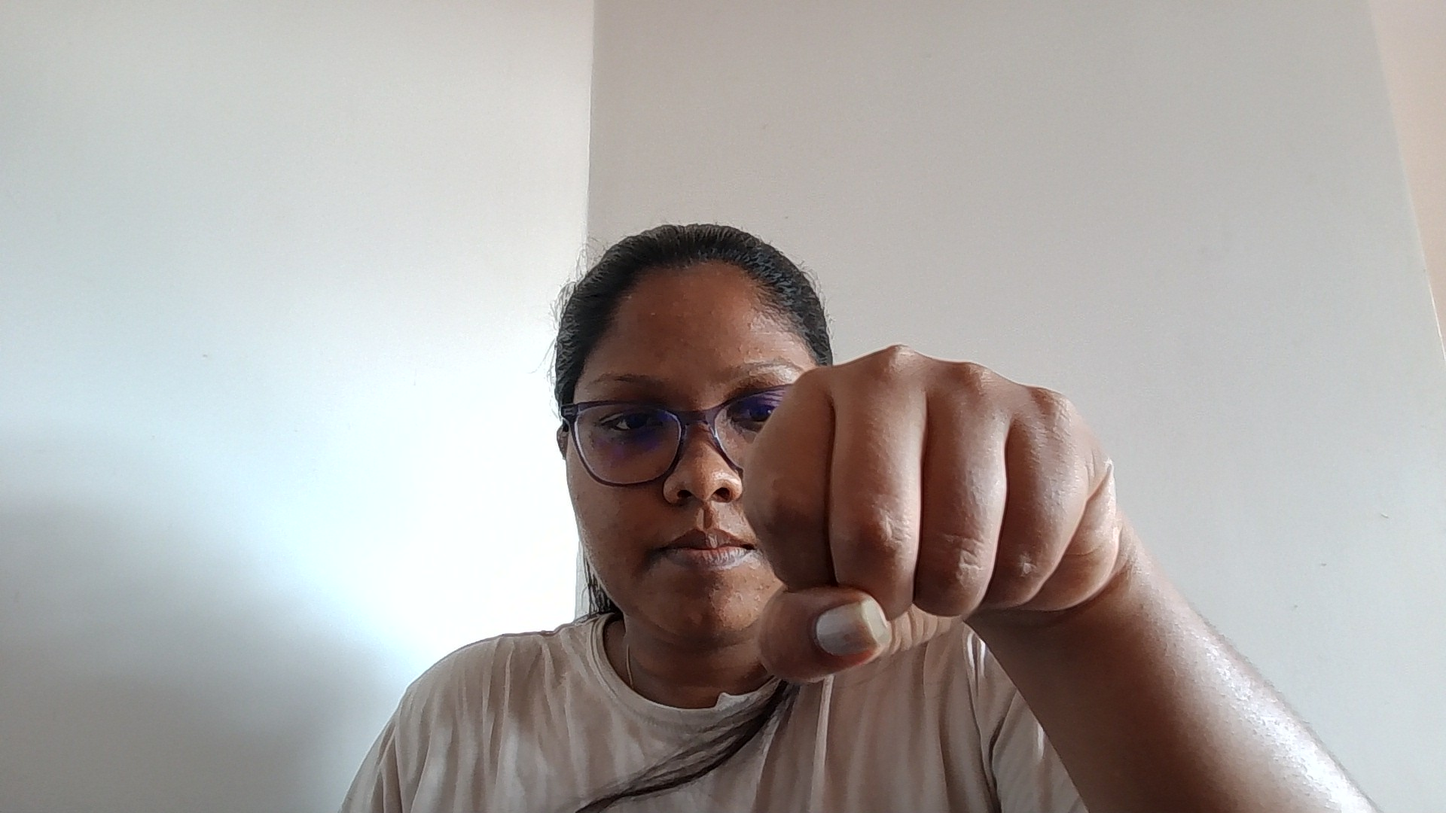Yes: (744, 299, 1171, 717)
